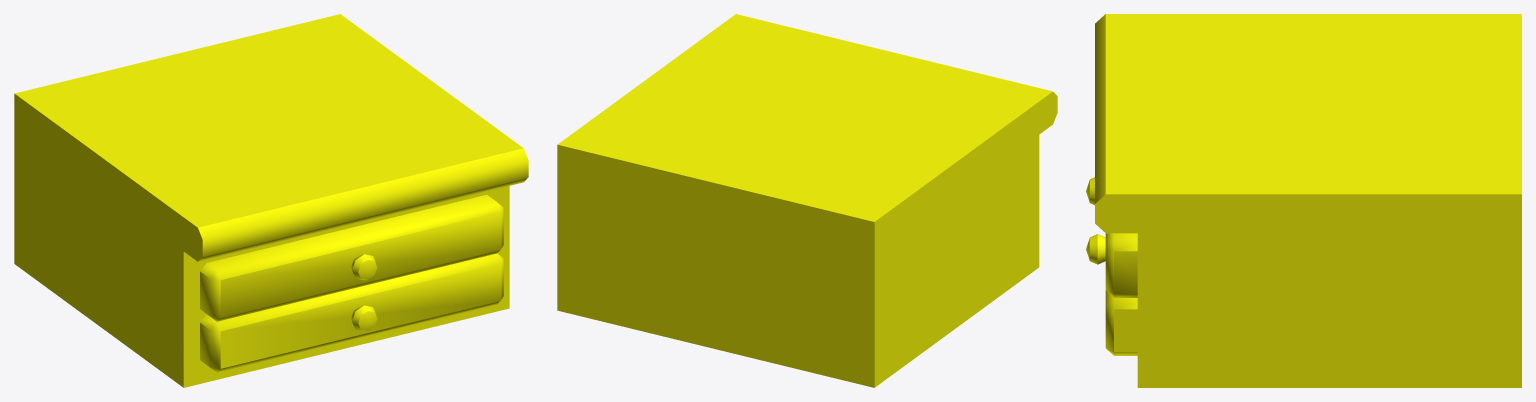
File: kitchencounter_straight_A.gltf
3 renders of one model, left to right at view 1: azimuth 30°, elevation 25°; view 2: azimuth 150°, elevation 25°; view 3: azimuth 270°, elevation 25°, orthographic. The views are drawn at different scales.
Parts seen in each view (by area): view 1: kitchencounter_straight_A; view 2: kitchencounter_straight_A; view 3: kitchencounter_straight_A.
Part boxes in pixels (bbox=[...]): kitchencounter_straight_A: bbox=[14, 14, 528, 387]; kitchencounter_straight_A: bbox=[557, 14, 1057, 387]; kitchencounter_straight_A: bbox=[1086, 14, 1521, 387].
Bounding box in the file's own units: 2 × 1 × 2.04.
Materials: 1 (1 with a texture image).
